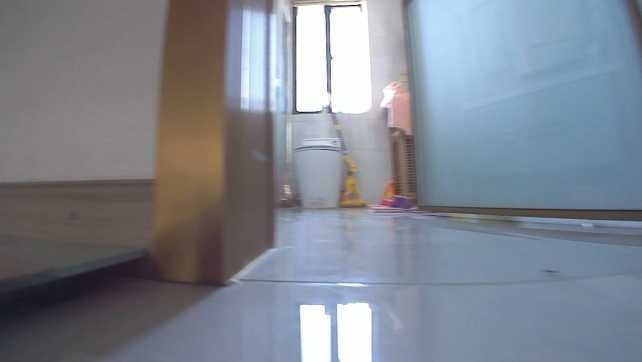door_anno: (399, 0, 641, 225)
toilet: (290, 135, 342, 212)
